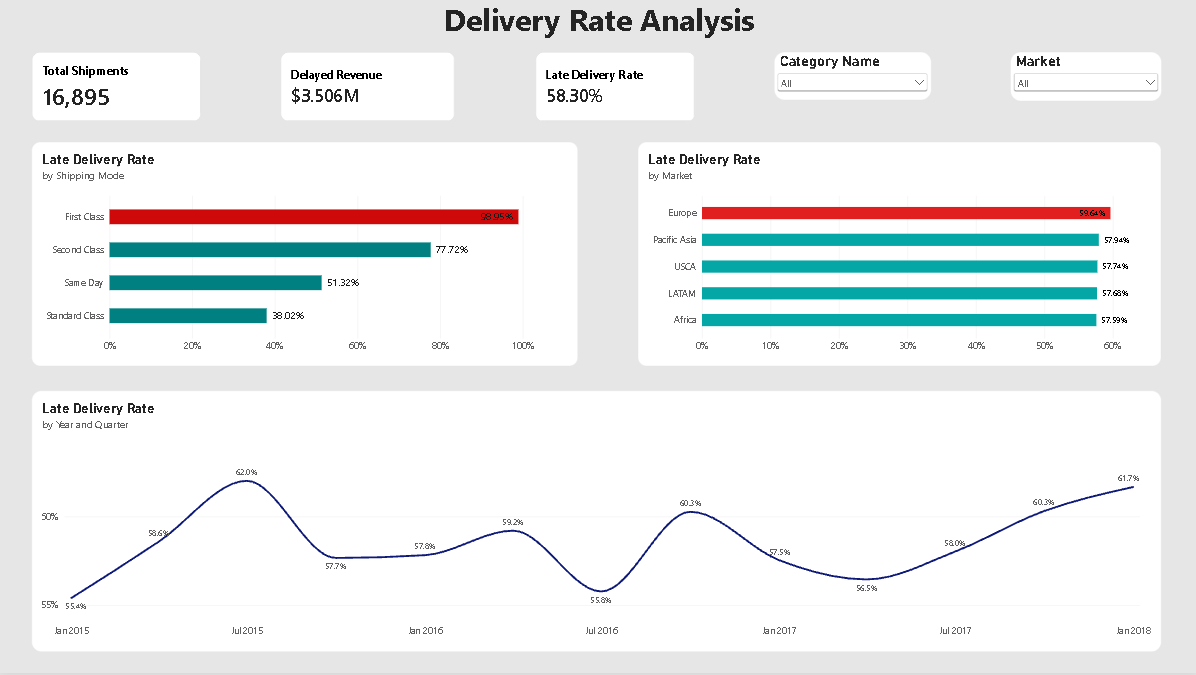

What the dashboard file says about the page in this screenshot:
{"tool":"powerbi","page":{"name":"Delivery Rate","canvas":[1920,1080],"ordinal":0},"visuals":[{"type":"cardVisual","fields":{"Data":["cleaned_supply_chain_data.Total Shipments"]},"box":[52,86,272.3,112.1],"z":0},{"type":"cardVisual","fields":{"Data":["cleaned_supply_chain_data.Delayed Revenue"]},"box":[450.5,86,280.3,112.1],"z":1000},{"type":"cardVisual","fields":{"Data":["cleaned_supply_chain_data.Late Delivery Rate"]},"box":[857.1,86,256.8,112.8],"z":2000},{"type":"clusteredBarChart","fields":{"Category":["cleaned_supply_chain_data.Shipping Mode"],"Y":["cleaned_supply_chain_data.Late Delivery Rate"]},"box":[51.9,229.4,874.3,359.2],"z":3000},{"type":"clusteredBarChart","fields":{"Category":["cleaned_supply_chain_data.Market"],"Y":["cleaned_supply_chain_data.Late Delivery Rate"]},"box":[1022,229.4,837.5,359.2],"z":4000},{"type":"lineChart","fields":{"Category":["cleaned_supply_chain_data.order date (DateOrders).Variation.Date Hierarchy.Year","cleaned_supply_chain_data.order date (DateOrders).Variation.Date Hierarchy.Quarter","cleaned_supply_chain_data.order date (DateOrders).Variation.Date Hierarchy.Month","cleaned_supply_chain_data.order date (DateOrders).Variation.Date Hierarchy.Day"],"Y":["cleaned_supply_chain_data.Late Delivery Rate"]},"box":[52,628,1808,418],"z":5000},{"type":"slicer","fields":{"Values":["cleaned_supply_chain_data.Market"]},"box":[1618,86,242.7,79.1],"z":6000},{"type":"slicer","fields":{"Values":["cleaned_supply_chain_data.Category Name"]},"box":[1240.1,86,251.7,77.3],"z":7000},{"type":"textbox","box":[56,0,1808,72],"z":8000}]}

Visuals, with their boxes in screenshot pixels (x1, y1, x2, y2), scaled from the page's 1920x1080 canvas onto the 1196x675 screenshot:
cardVisual - cleaned_supply_chain_data.Total Shipments: [left=32, top=54, right=202, bottom=124]
cardVisual - cleaned_supply_chain_data.Delayed Revenue: [left=281, top=54, right=455, bottom=124]
cardVisual - cleaned_supply_chain_data.Late Delivery Rate: [left=534, top=54, right=694, bottom=124]
clusteredBarChart - cleaned_supply_chain_data.Shipping Mode x cleaned_supply_chain_data.Late Delivery Rate: [left=32, top=143, right=577, bottom=368]
clusteredBarChart - cleaned_supply_chain_data.Market x cleaned_supply_chain_data.Late Delivery Rate: [left=637, top=143, right=1158, bottom=368]
lineChart - cleaned_supply_chain_data.order date (DateOrders).Variation.Date Hierarchy.Year x cleaned_supply_chain_data.order date (DateOrders).Variation.Date Hierarchy.Quarter: [left=32, top=392, right=1159, bottom=654]
slicer - cleaned_supply_chain_data.Market: [left=1008, top=54, right=1159, bottom=103]
slicer - cleaned_supply_chain_data.Category Name: [left=772, top=54, right=929, bottom=102]
textbox: [left=35, top=0, right=1161, bottom=45]
